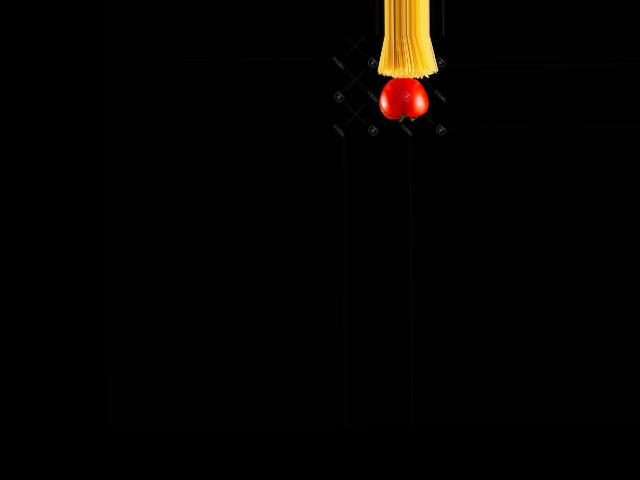tomato: (380, 77, 429, 119)
